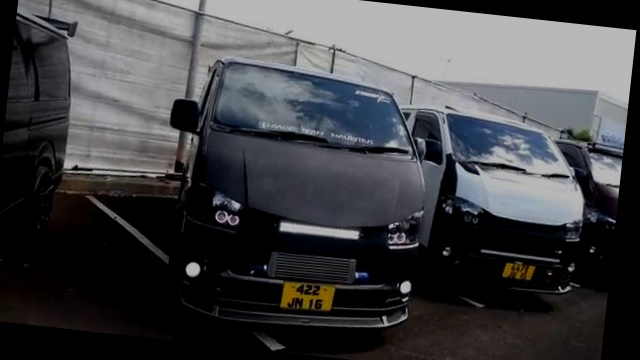van: (159, 51, 444, 349), (383, 97, 597, 311)
